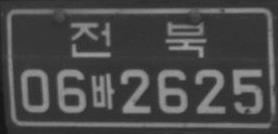0: (20, 68, 50, 113)
2: (119, 68, 152, 114), (194, 67, 225, 115)
5: (231, 68, 264, 115)
6: (156, 67, 188, 114), (56, 68, 87, 114)
바: (90, 72, 114, 110)
전북_D: (70, 21, 208, 58)
